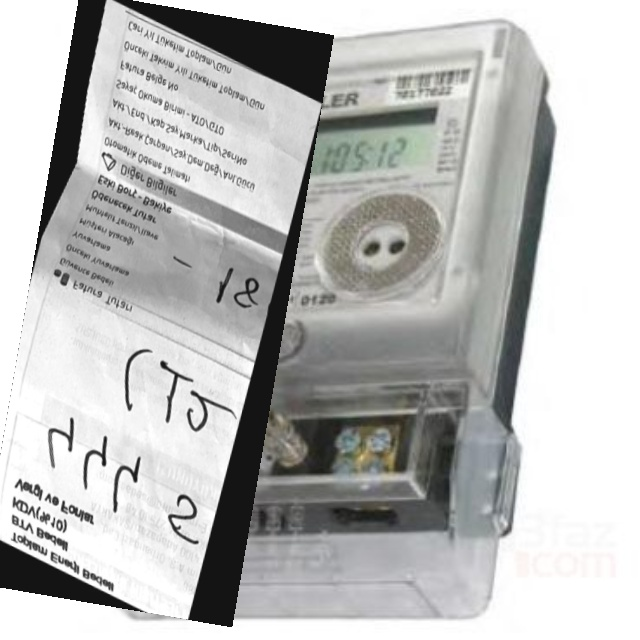electricity-bill: (0, 0, 333, 627)
